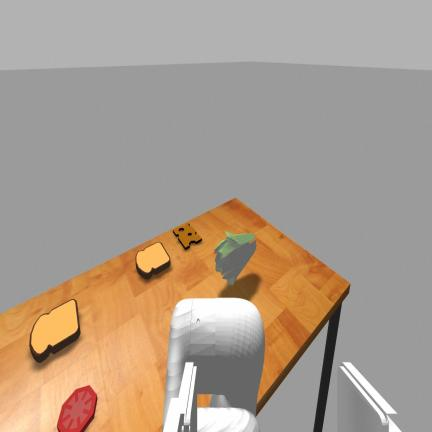cheese: (173, 223, 202, 249)
lettuce: (215, 232, 256, 284)
sliced_bread: (30, 299, 80, 362), (136, 242, 170, 278)
sliced_tomato: (57, 386, 97, 431)
